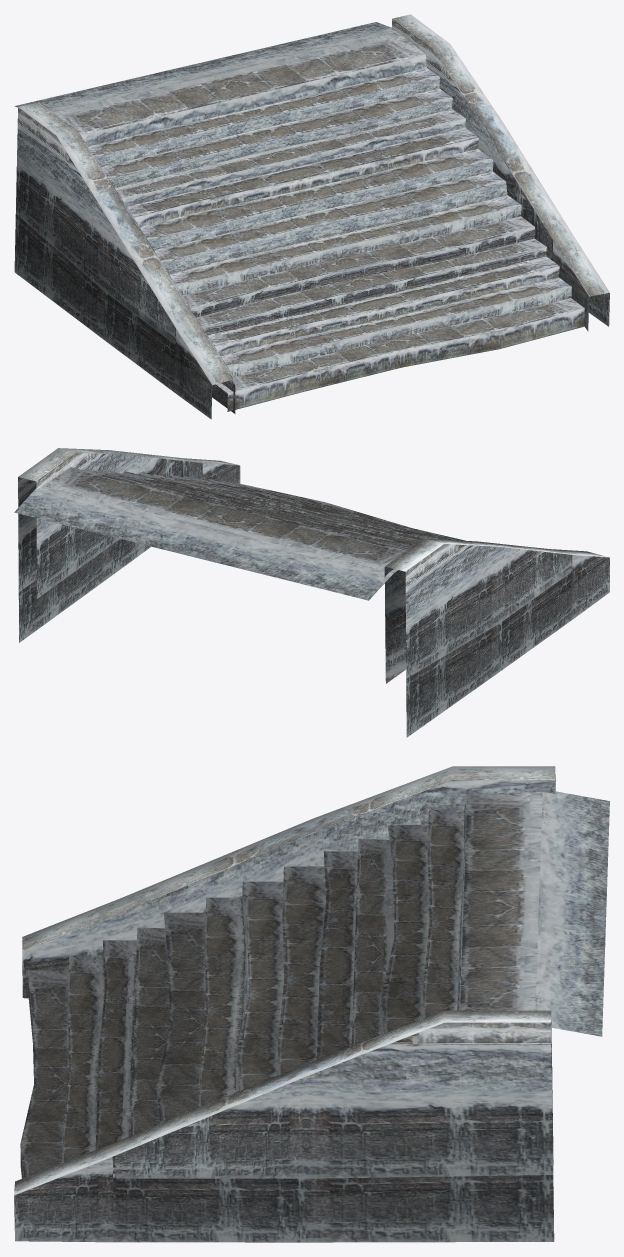
Rendered from S_Build_Snowland136.FBX.
The picture shows the model from 3 angles, top to bottom: view 1: azimuth 30°, elevation 25°; view 2: azimuth 150°, elevation 25°; view 3: azimuth 270°, elevation 25°; orthographic projection. The views are drawn at different scales.
Visible parts, largest first — view 1: S_Build_Snowland136; view 2: S_Build_Snowland136; view 3: S_Build_Snowland136.
Part boxes in pixels (<box>): S_Build_Snowland136: <box>14,14,609,419</box>; S_Build_Snowland136: <box>14,448,609,737</box>; S_Build_Snowland136: <box>14,766,609,1242</box>.
Size of the model in its own units: 721 by 703 by 290.
